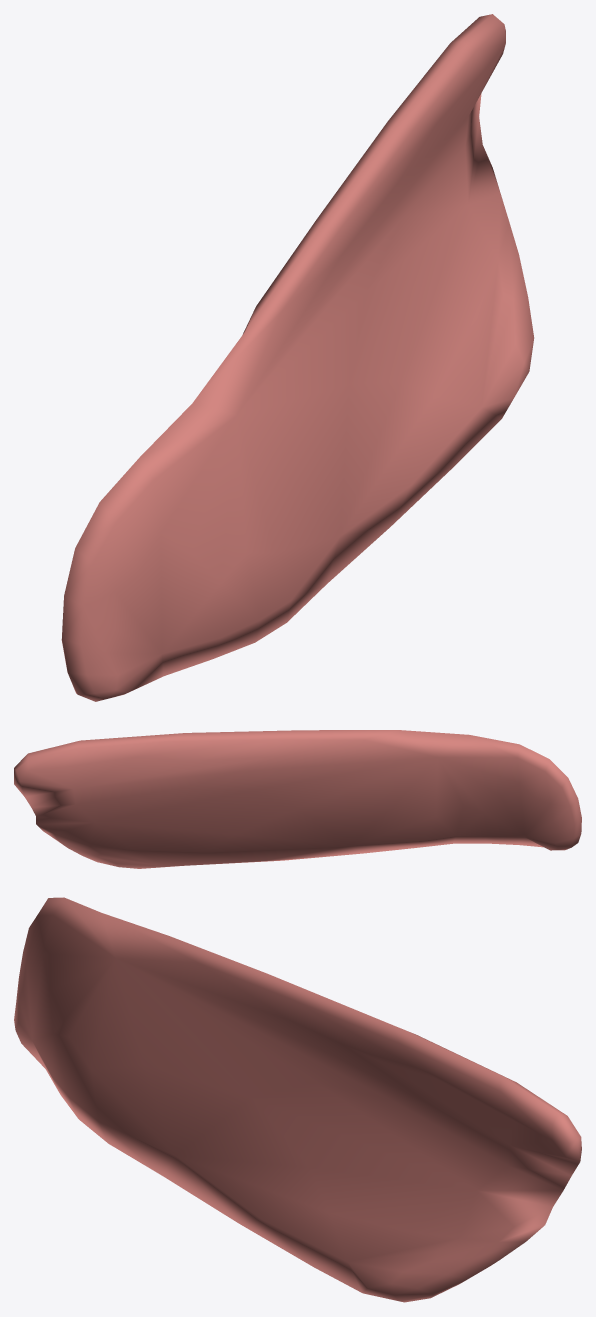
The picture shows the model from 3 angles, top to bottom: view 1: azimuth 30°, elevation 25°; view 2: azimuth 150°, elevation 25°; view 3: azimuth 270°, elevation 25°; orthographic projection. The views are drawn at different scales.
Parts seen in each view (by area): view 1: ZA_460bbb0f33628e05; view 2: ZA_460bbb0f33628e05; view 3: ZA_460bbb0f33628e05.
Part boxes in pixels (x1,y1,x2,y2): ZA_460bbb0f33628e05: (61, 14, 534, 701); ZA_460bbb0f33628e05: (14, 730, 581, 868); ZA_460bbb0f33628e05: (14, 897, 581, 1302).
Bounding box in the file's own units: 0.0109 × 0.00402 × 0.00866.
